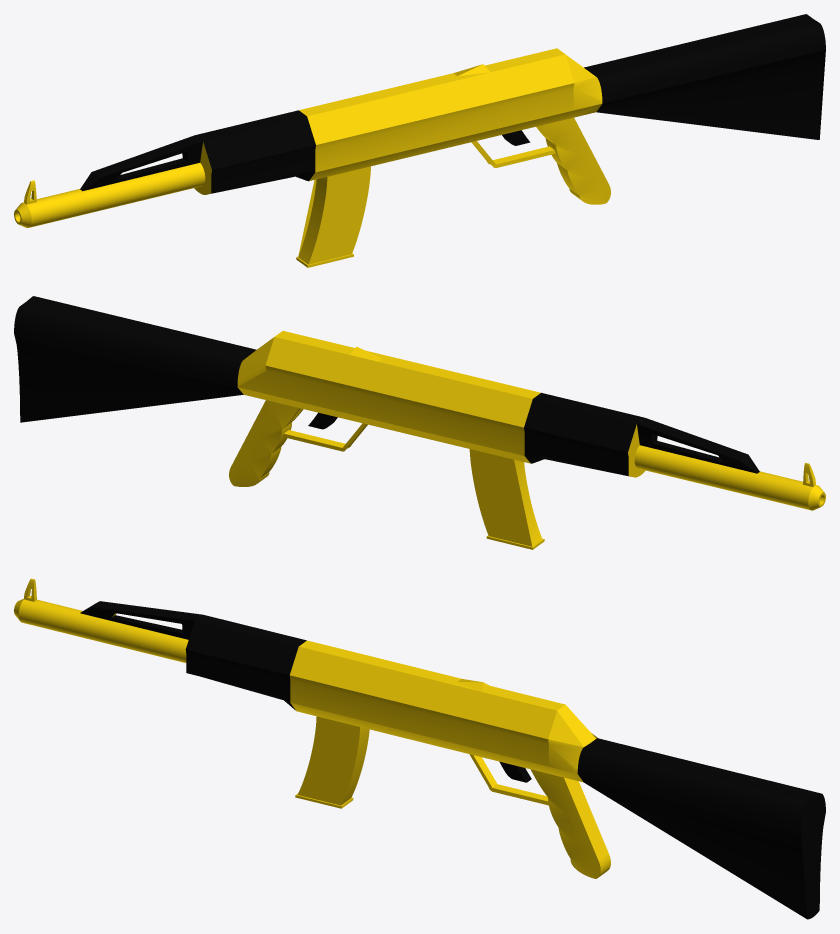
Rendered from mitra6.fbx.
3 views of the same model, one above another, from view 1: azimuth 30°, elevation 25°; view 2: azimuth 150°, elevation 25°; view 3: azimuth 330°, elevation 25° (orthographic).
Visible parts, largest first — view 1: Cylinder.003, Cylinder.006, Cylinder.007, Cylinder.004, Cylinder.002; view 2: Cylinder.003, Cylinder.006, Cylinder.007, Cylinder.004, Cylinder.002; view 3: Cylinder.003, Cylinder.006, Cylinder.007, Cylinder.004, Cylinder.002.
Part boxes in pixels (x1,y1,x2,y2): Cylinder.003: [14, 48, 610, 267]; Cylinder.006: [584, 14, 825, 139]; Cylinder.007: [203, 116, 315, 193]; Cylinder.004: [80, 135, 202, 191]; Cylinder.002: [195, 110, 306, 141]; Cylinder.003: [229, 331, 825, 549]; Cylinder.006: [14, 296, 256, 422]; Cylinder.007: [524, 399, 636, 476]; Cylinder.004: [637, 418, 759, 473]; Cylinder.002: [533, 392, 644, 423]; Cylinder.003: [14, 578, 610, 878]; Cylinder.006: [577, 738, 825, 919]; Cylinder.007: [185, 621, 298, 702]; Cylinder.004: [80, 601, 202, 639]; Cylinder.002: [195, 614, 306, 646].
Bounding box in the file's own units: 402 × 79.3 × 23.01.
